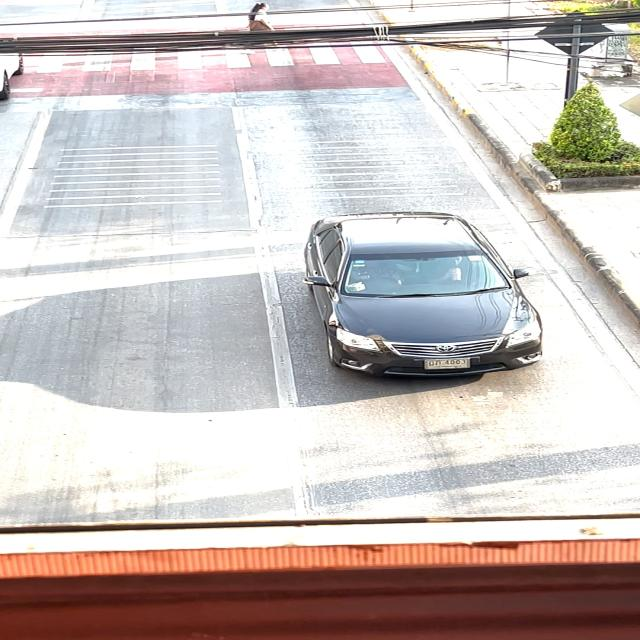car: (282, 196, 561, 390)
